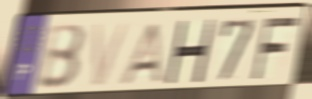7: (217, 16, 258, 83)
A: (117, 20, 165, 86)
B: (36, 22, 87, 92)
F: (249, 14, 302, 82)
H: (163, 18, 217, 85)
V: (91, 20, 133, 89)
